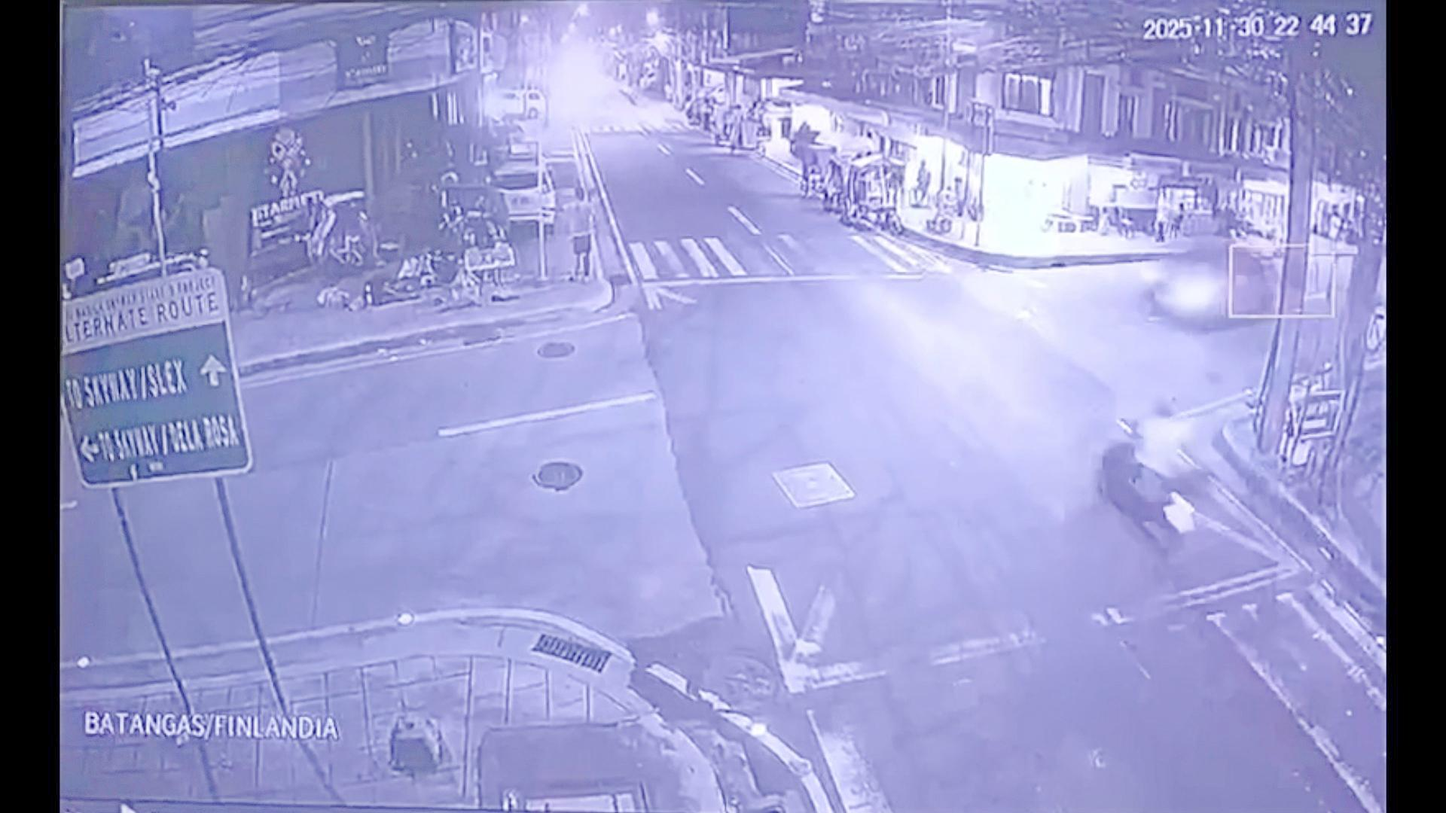Car: (1151, 233, 1267, 325)
Motor: (1105, 394, 1197, 545)
